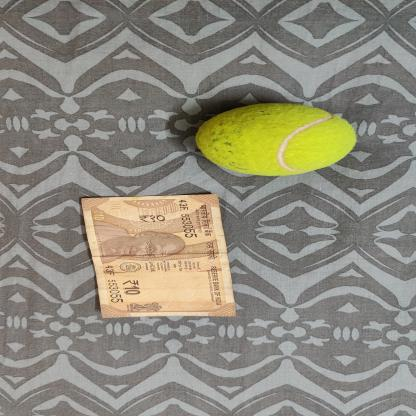New10Front: (78, 193, 240, 318)
